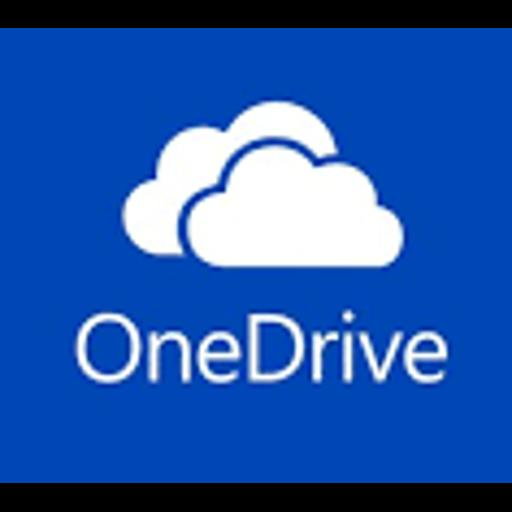Microsoft OneDrive: (0, 28, 512, 483)
